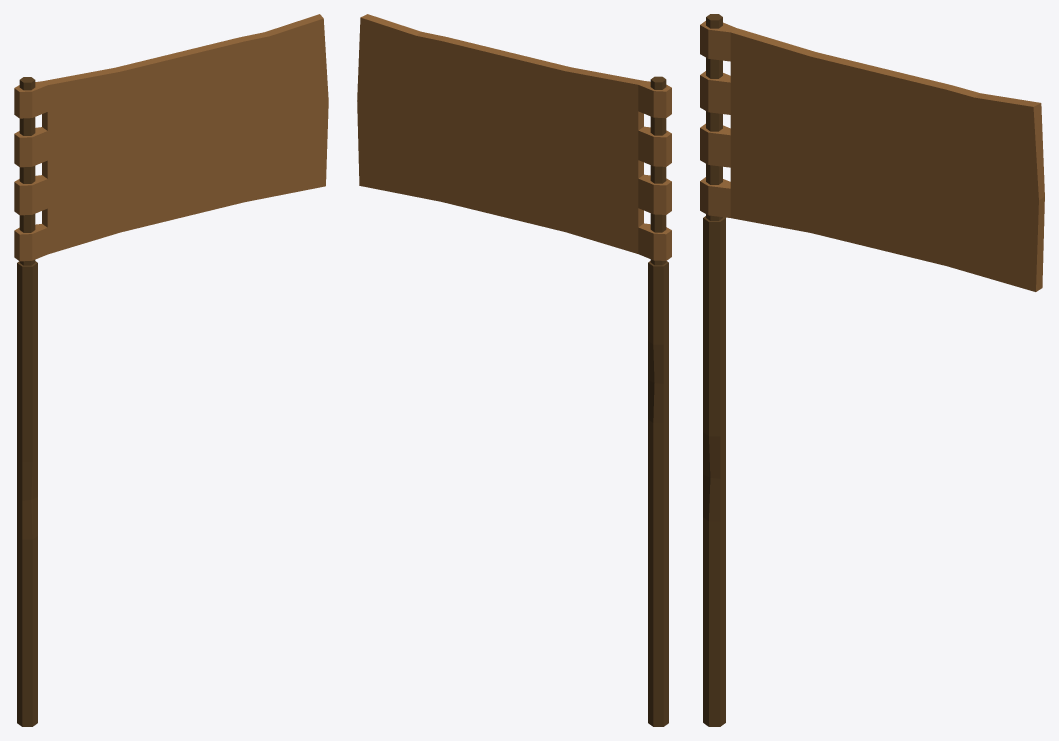
File: flag.fbx
The picture shows the model from 3 angles, left to right: view 1: azimuth 30°, elevation 25°; view 2: azimuth 150°, elevation 25°; view 3: azimuth 330°, elevation 25°; orthographic projection. The views are drawn at different scales.
Parts seen in each view (by area): view 1: flag; view 2: flag; view 3: flag.
Part boxes in pixels (bbox=[...]): flag: bbox=[14, 14, 328, 726]; flag: bbox=[357, 14, 671, 726]; flag: bbox=[700, 14, 1044, 726].
Size of the model in its own units: 149 by 297 by 8.87.
